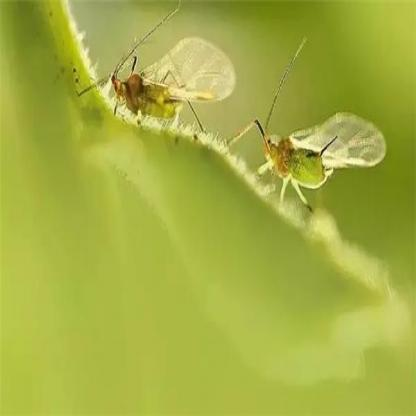aphid: (240, 40, 388, 220), (97, 10, 235, 138)
